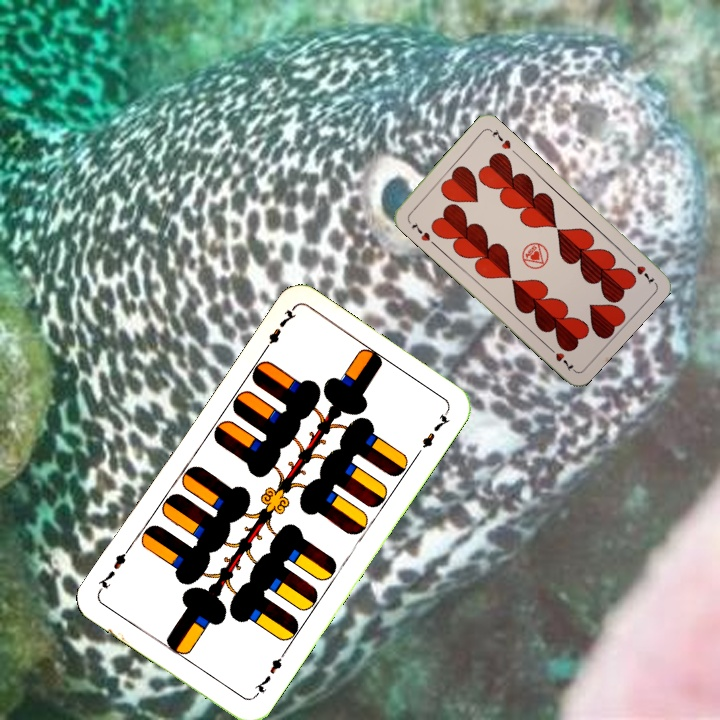E7: (258, 304, 299, 356), (249, 648, 288, 700)
H7: (625, 254, 657, 287), (407, 218, 433, 244)
